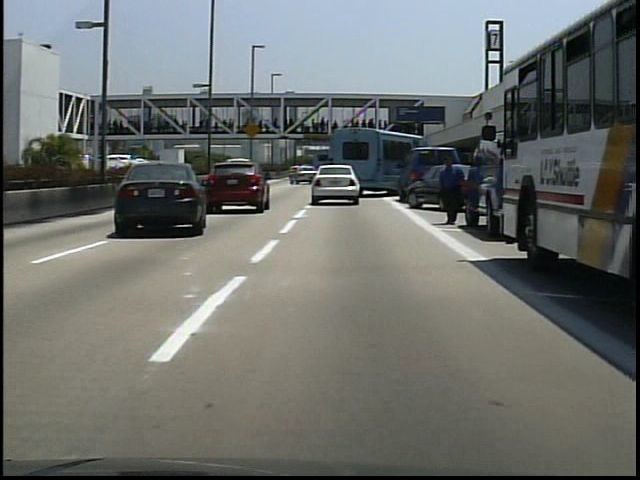person: (434, 158, 468, 230)
